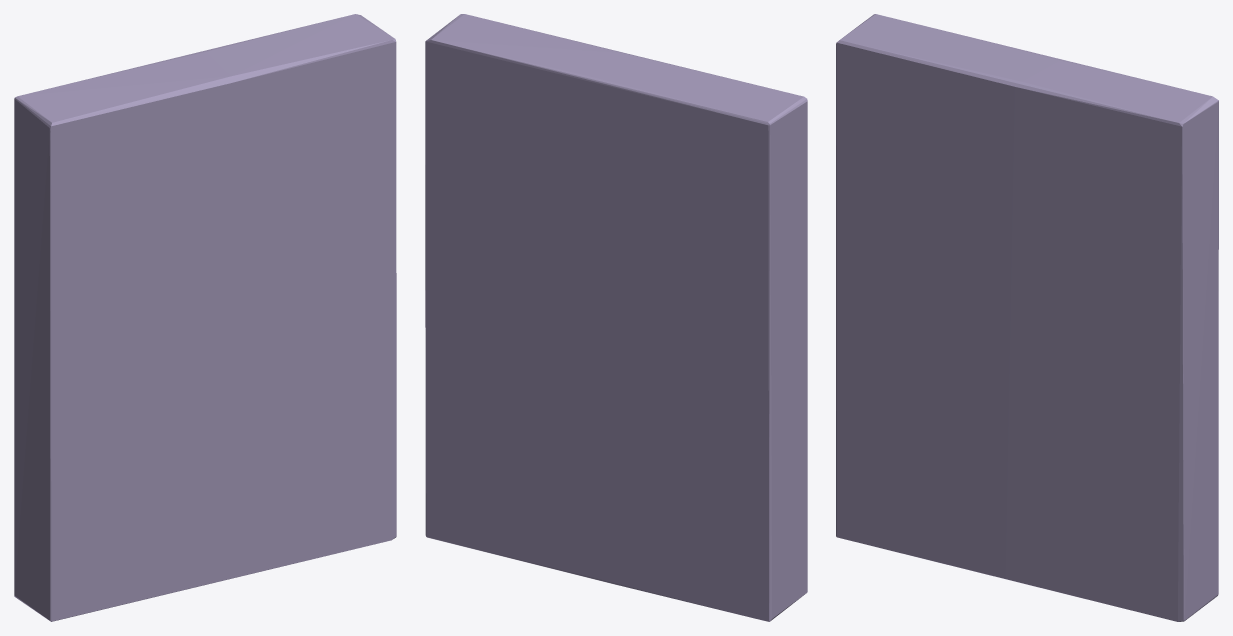
File: box_flat_white_b14.glb
3 views of the same model, side by side, from view 1: azimuth 30°, elevation 25°; view 2: azimuth 150°, elevation 25°; view 3: azimuth 330°, elevation 25° (orthographic).
Visible parts, largest first — view 1: geometry_0; view 2: geometry_0; view 3: geometry_0.
Boxes of the visible parts, bbox=[...] form: geometry_0: bbox=[14, 14, 396, 621]; geometry_0: bbox=[425, 14, 807, 621]; geometry_0: bbox=[836, 14, 1218, 621].
Size of the model in its own units: 0.3477 by 0.48 by 0.0661.
